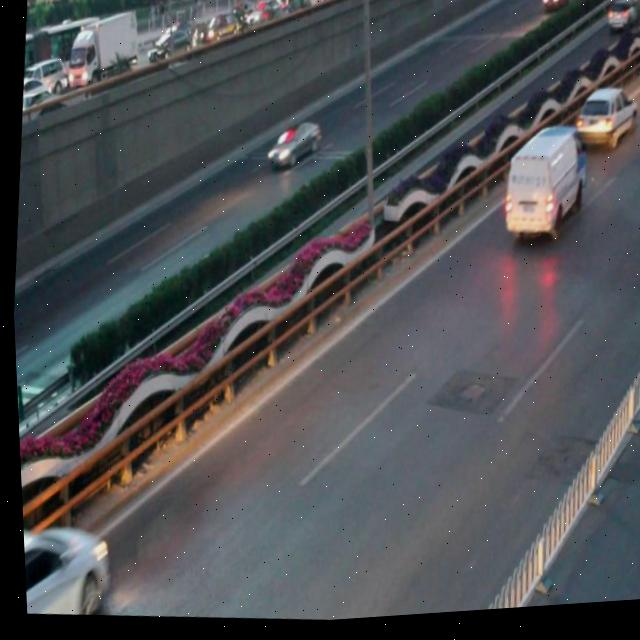car: (18, 512, 111, 620), (568, 87, 636, 160), (262, 122, 320, 175)
truck: (495, 127, 590, 249)
